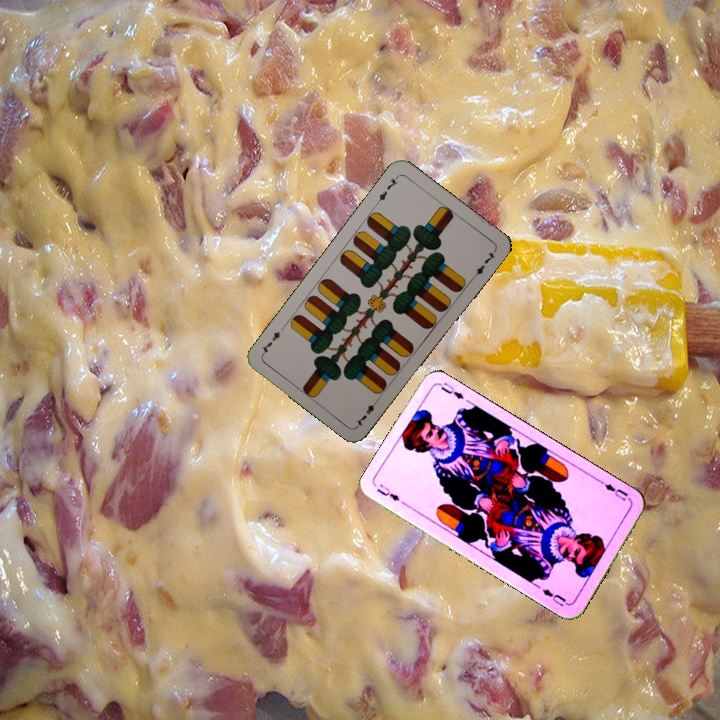E7: (351, 394, 382, 429), (372, 172, 401, 207)
EU: (596, 477, 631, 503), (373, 480, 402, 504)
